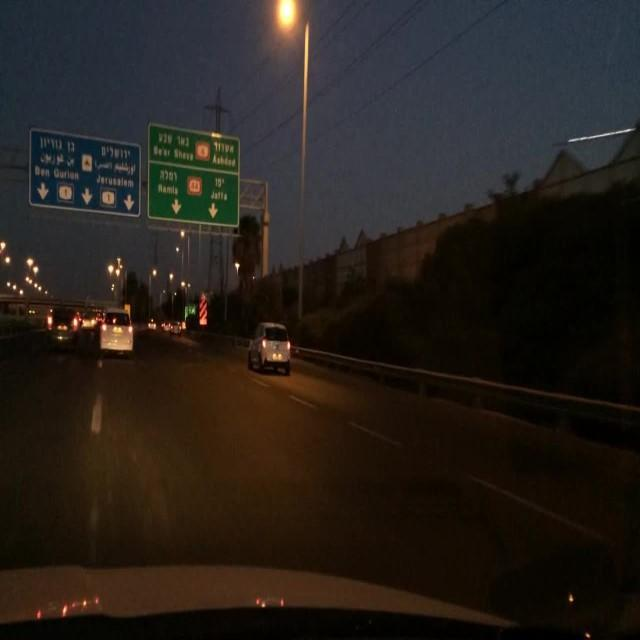normal: (35, 303, 147, 362), (243, 318, 307, 385)
